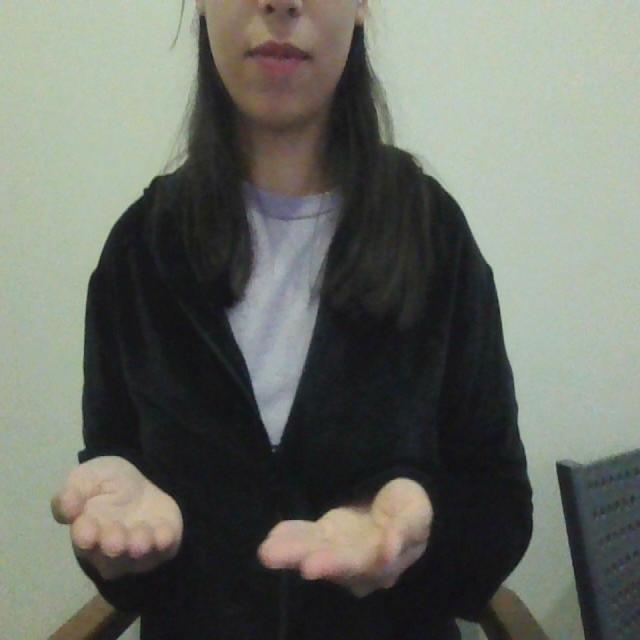Evet: (47, 448, 440, 604)
